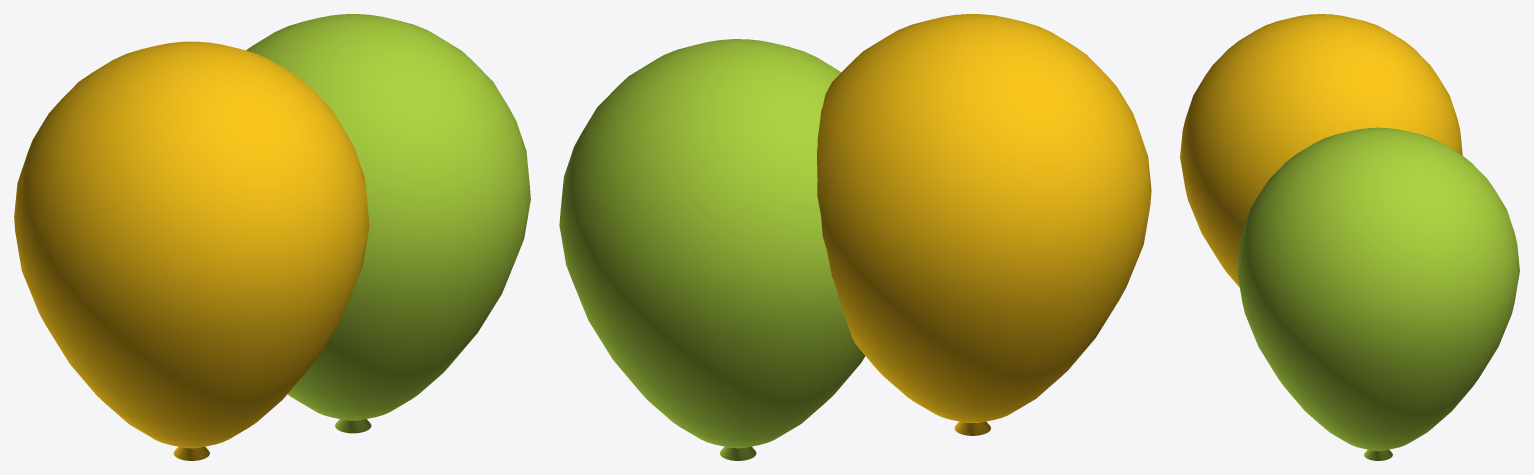
File: Balloonsok.fbx
The picture shows the model from 3 angles, left to right: view 1: azimuth 30°, elevation 25°; view 2: azimuth 150°, elevation 25°; view 3: azimuth 270°, elevation 25°; orthographic projection. The views are drawn at different scales.
Visible parts, largest first — view 1: YellowBalloon, GreenBalloon; view 2: YellowBalloon, GreenBalloon; view 3: GreenBalloon, YellowBalloon.
Boxes of the visible parts, x1,y1,x2,y2 form: YellowBalloon: (14, 41, 369, 460); GreenBalloon: (246, 14, 530, 433); YellowBalloon: (817, 14, 1151, 435); GreenBalloon: (559, 39, 865, 460); GreenBalloon: (1237, 127, 1519, 460); YellowBalloon: (1180, 14, 1462, 287).
Size of the model in its own units: 654 by 546 by 479.
